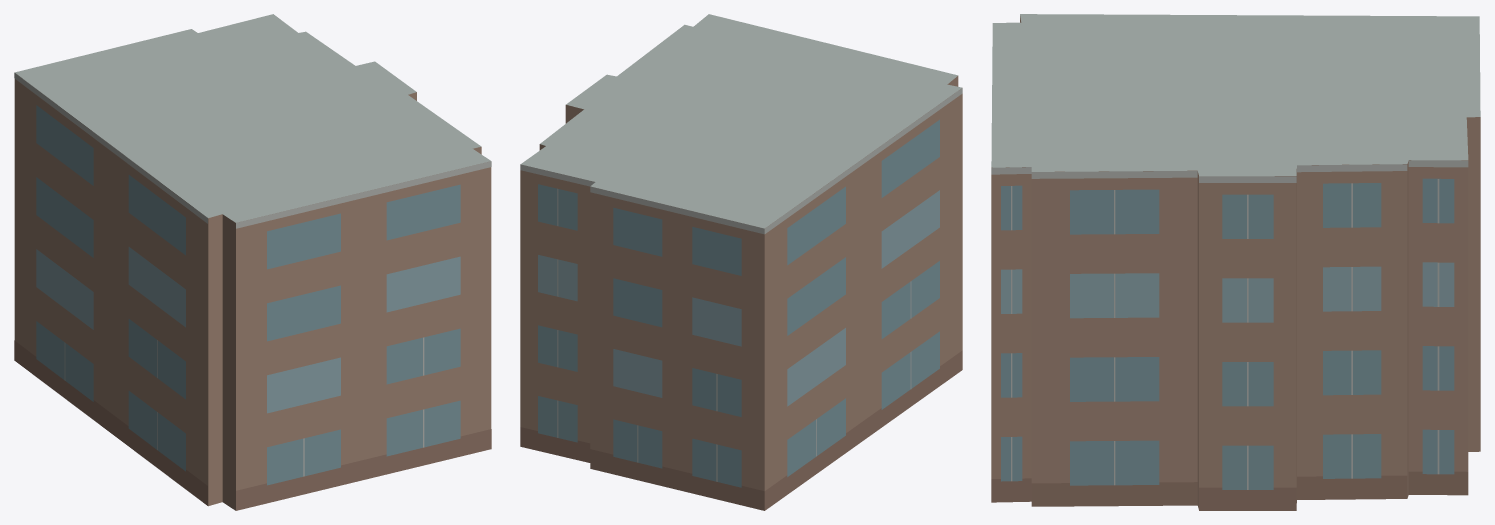
File: survey-upis-32775467.glb
3 views of the same model, side by side, from view 1: azimuth 30°, elevation 25°; view 2: azimuth 150°, elevation 25°; view 3: azimuth 270°, elevation 25° (orthographic). The views are drawn at different scales.
Visible parts, largest first — view 1: survey-upis-32775467.tmp; view 2: survey-upis-32775467.tmp; view 3: survey-upis-32775467.tmp.
Boxes of the visible parts, left/top/right/bottom form: survey-upis-32775467.tmp: left=14, top=14, right=491, bottom=510; survey-upis-32775467.tmp: left=520, top=14, right=962, bottom=510; survey-upis-32775467.tmp: left=991, top=14, right=1480, bottom=510.
Size of the model in its own units: 12.27 by 11.8 by 15.64.
